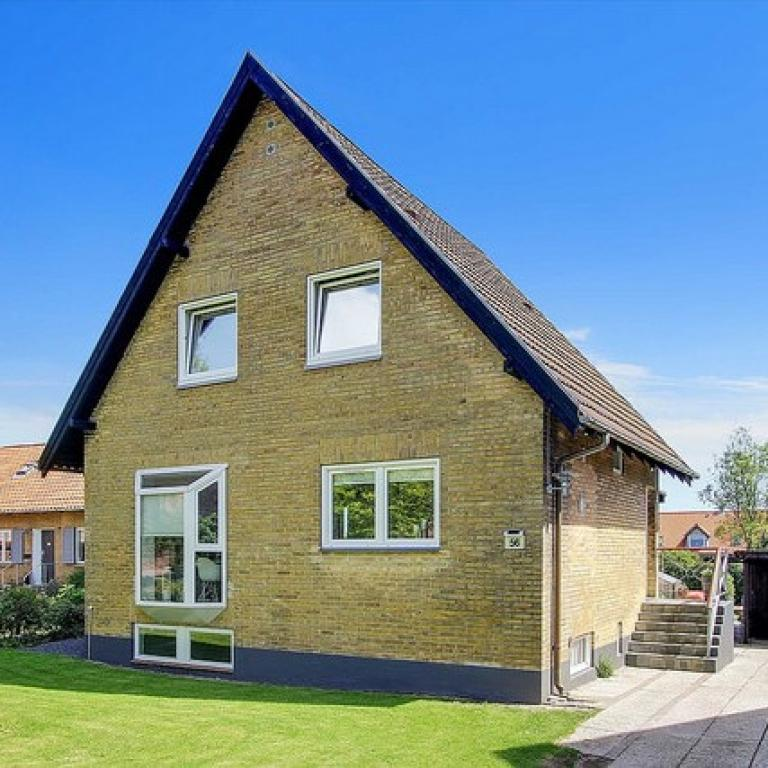white-walls: (81, 89, 547, 703)
